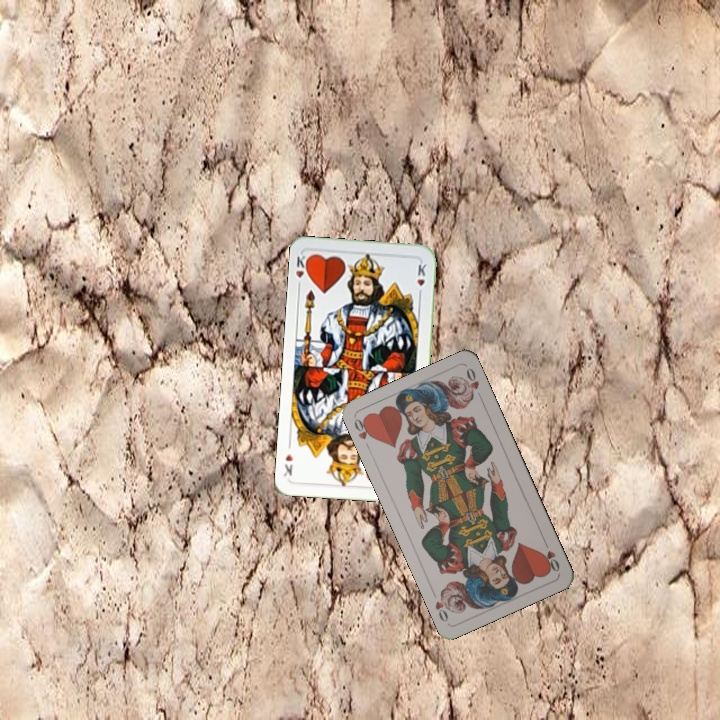HK: (292, 251, 312, 291)
HO: (350, 413, 376, 453), (539, 536, 562, 574)
